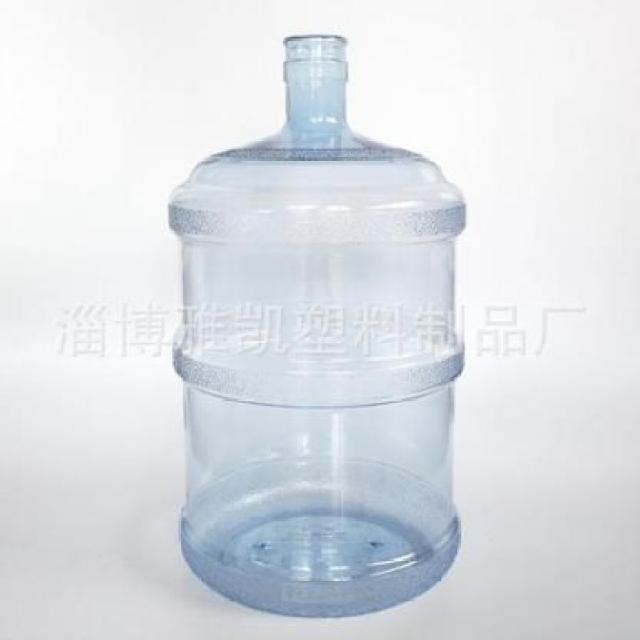coolerbottle: (162, 32, 470, 621)
